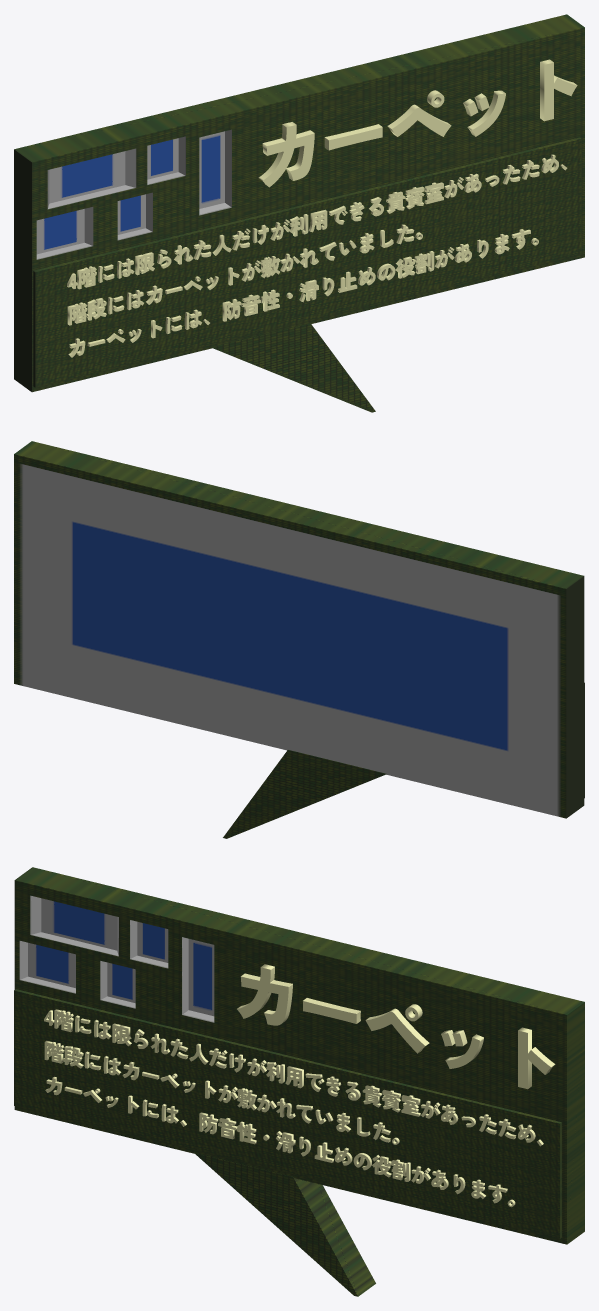
File: fukidasi-karpet.glb
3 renders of one model, top to bottom at view 1: azimuth 30°, elevation 25°; view 2: azimuth 150°, elevation 25°; view 3: azimuth 330°, elevation 25°, orthographic.
Visible parts, largest first — view 1: 立方体, 立方体.002, テキスト, テキスト.002, 立方体.001; view 2: 立方体, 立方体.001; view 3: 立方体, 立方体.002, テキスト, 立方体.001, テキスト.002.
Part boxes in pixels (bbox=[...]): 立方体: bbox=[14, 14, 584, 392]; 立方体.002: bbox=[33, 137, 581, 387]; テキスト: bbox=[67, 154, 567, 357]; テキスト.002: bbox=[258, 59, 577, 187]; 立方体.001: bbox=[211, 323, 375, 412]; 立方体: bbox=[14, 441, 584, 818]; 立方体.001: bbox=[223, 750, 386, 838]; 立方体: bbox=[14, 867, 584, 1244]; 立方体.002: bbox=[14, 989, 561, 1238]; テキスト: bbox=[44, 1009, 543, 1207]; 立方体.001: bbox=[194, 1152, 375, 1296]; テキスト.002: bbox=[237, 964, 555, 1089].
Bounding box in the file's own units: 11.12 × 6.4 × 0.7737.
4 materials, 3 textured.
